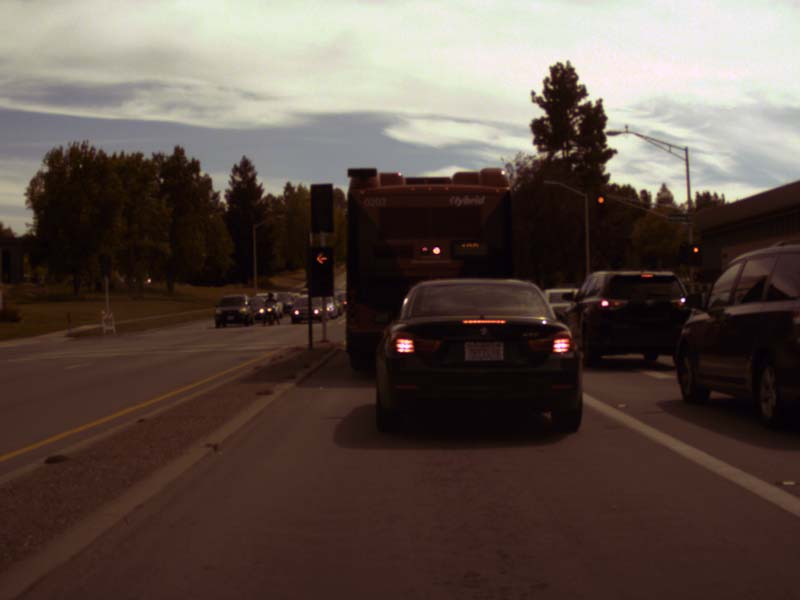Red: (310, 248, 331, 295), (690, 245, 699, 266), (596, 195, 604, 218)
